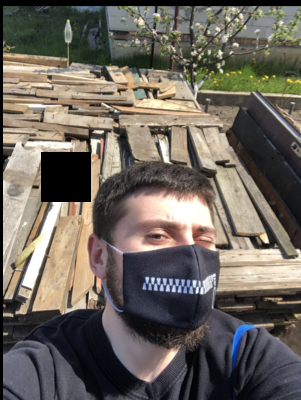with_mask: (118, 206, 220, 344)
